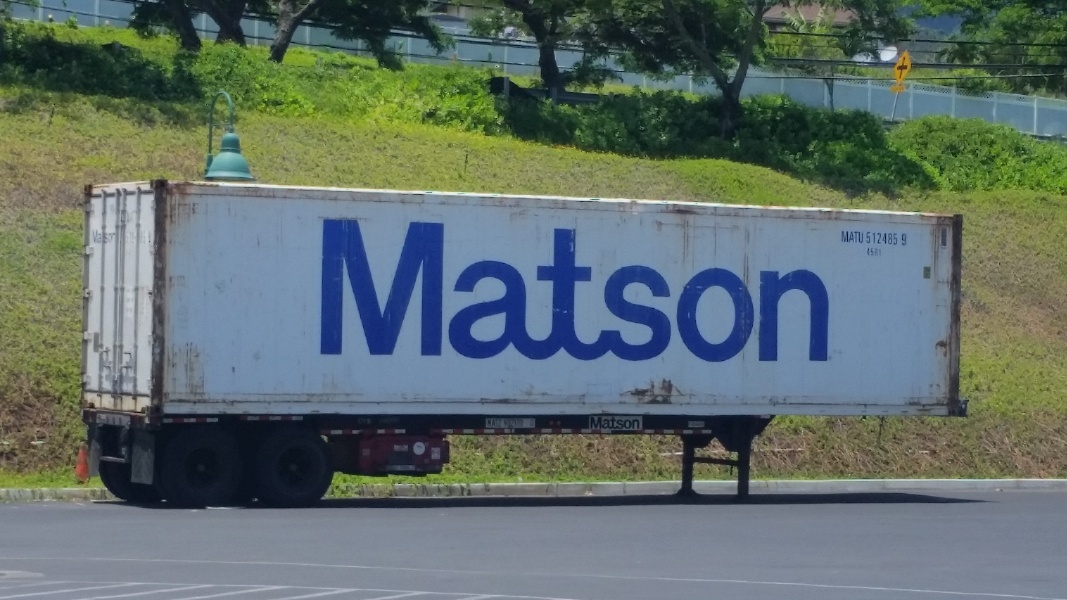text: (337, 218, 352, 365), (353, 218, 368, 365), (369, 218, 384, 365), (385, 218, 400, 365), (401, 218, 416, 365), (417, 218, 432, 365), (433, 218, 448, 365), (449, 218, 464, 365), (465, 218, 480, 365), (481, 218, 496, 365), (497, 218, 512, 365), (513, 218, 528, 365), (529, 218, 544, 365), (545, 218, 560, 365), (561, 218, 576, 365), (577, 218, 592, 365), (593, 218, 608, 365), (609, 218, 624, 365), (625, 218, 640, 365), (641, 218, 656, 365), (657, 218, 672, 365), (673, 218, 688, 365), (689, 218, 704, 365), (705, 218, 720, 365), (721, 218, 736, 365), (737, 218, 752, 365), (753, 218, 768, 365), (769, 218, 784, 365), (785, 218, 800, 365), (801, 218, 816, 365), (817, 218, 832, 365), (322, 218, 336, 365), (625, 416, 641, 430), (593, 416, 608, 430), (609, 416, 624, 430), (849, 231, 865, 244), (881, 232, 896, 245), (866, 232, 880, 245), (833, 218, 834, 365), (901, 234, 912, 246), (513, 419, 526, 429), (866, 248, 880, 257), (503, 419, 512, 429), (842, 231, 848, 244), (487, 420, 496, 428), (497, 420, 502, 428), (897, 232, 899, 245), (881, 248, 883, 257), (591, 416, 592, 430)
